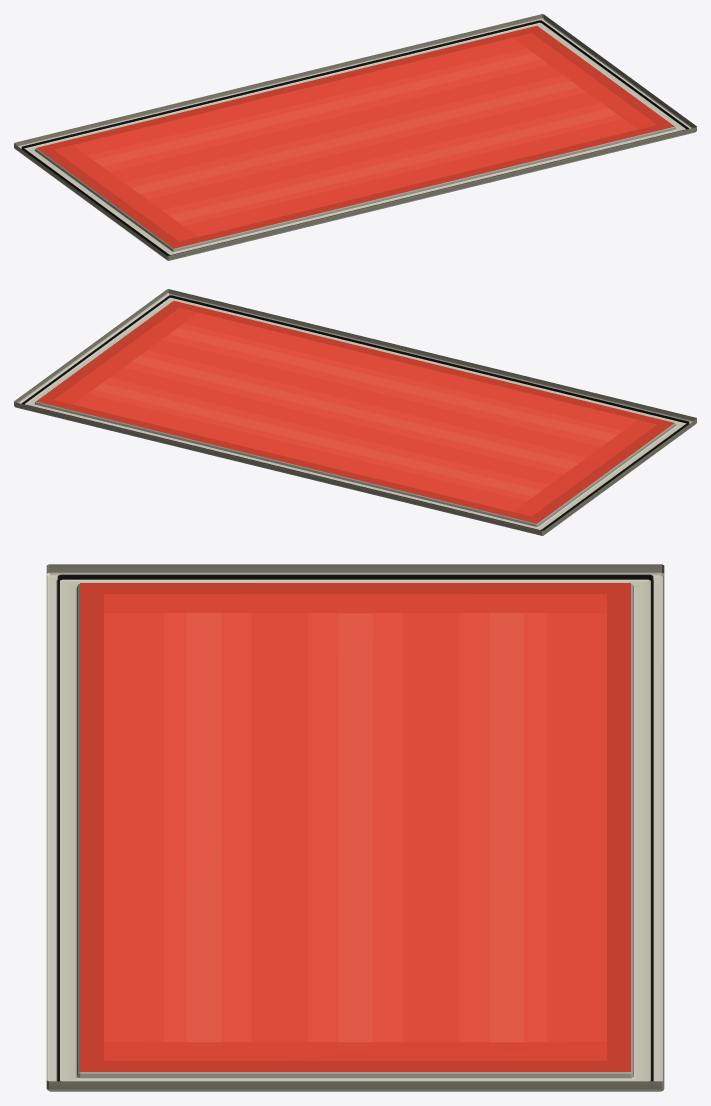
File: troffer_red.glb
3 views of the same model, one above another, from view 1: azimuth 30°, elevation 25°; view 2: azimuth 150°, elevation 25°; view 3: azimuth 270°, elevation 25° (orthographic). The views are drawn at different scales.
Visible parts, largest first — view 1: rasterleuchte; view 2: rasterleuchte; view 3: rasterleuchte.
Boxes of the visible parts, left/top/right/bottom form: rasterleuchte: left=14, top=14, right=696, bottom=260; rasterleuchte: left=14, top=289, right=696, bottom=535; rasterleuchte: left=46, top=564, right=664, bottom=1091.
Size of the model in its own units: 1.21 by 0.0122 by 0.612.
